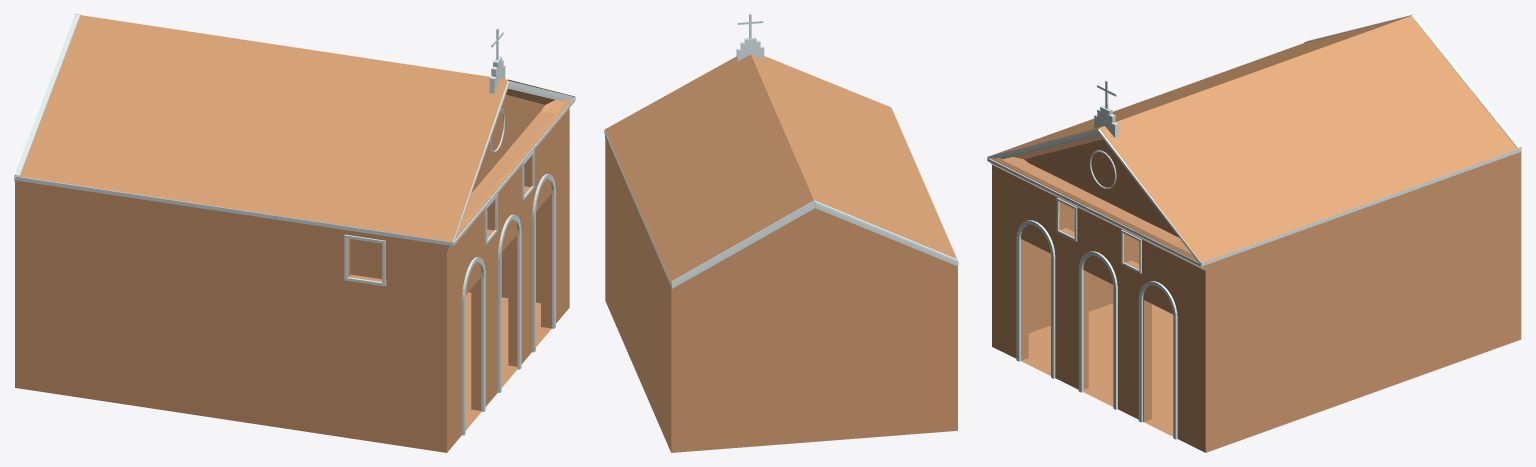
File: igreja.fbx
3 renders of one model, left to right at view 1: azimuth 30°, elevation 25°; view 2: azimuth 150°, elevation 25°; view 3: azimuth 270°, elevation 25°, orthographic. The views are drawn at different scales.
Parts seen in each view (by area): view 1: adorno; view 2: adorno; view 3: adorno.
Part boxes in pixels (bbox=[...]): adorno: bbox=[14, 14, 575, 452]; adorno: bbox=[604, 14, 958, 452]; adorno: bbox=[987, 14, 1521, 452].
Bounding box in the file's own units: 62.19 × 41.35 × 63.41.
